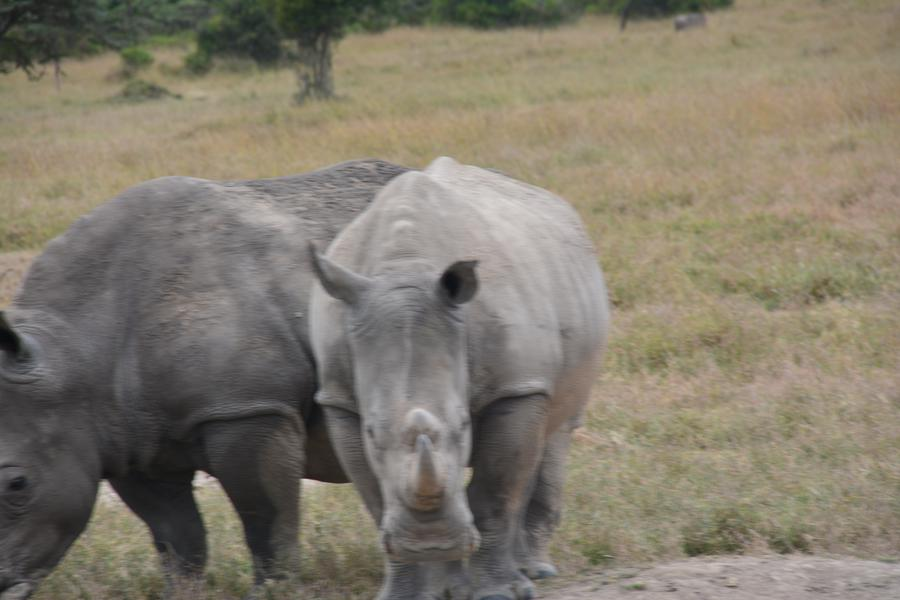rhino: (1, 177, 306, 545), (323, 158, 581, 547)
